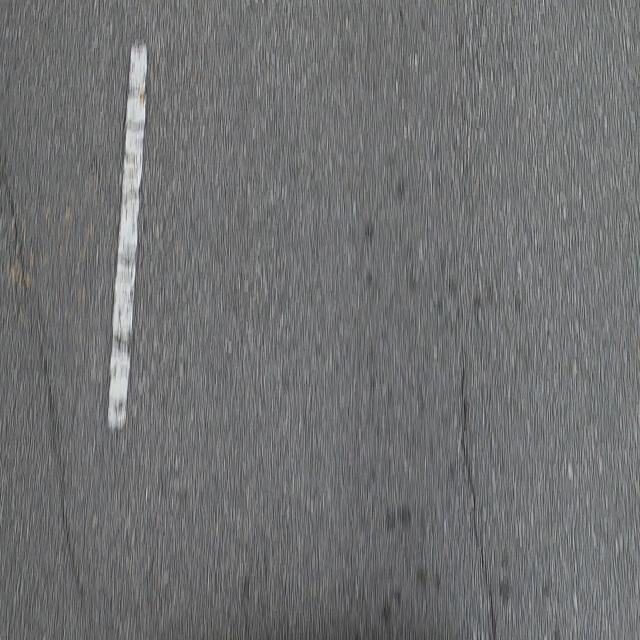Retak-Memanjang: (0, 168, 87, 617), (456, 337, 502, 638)
